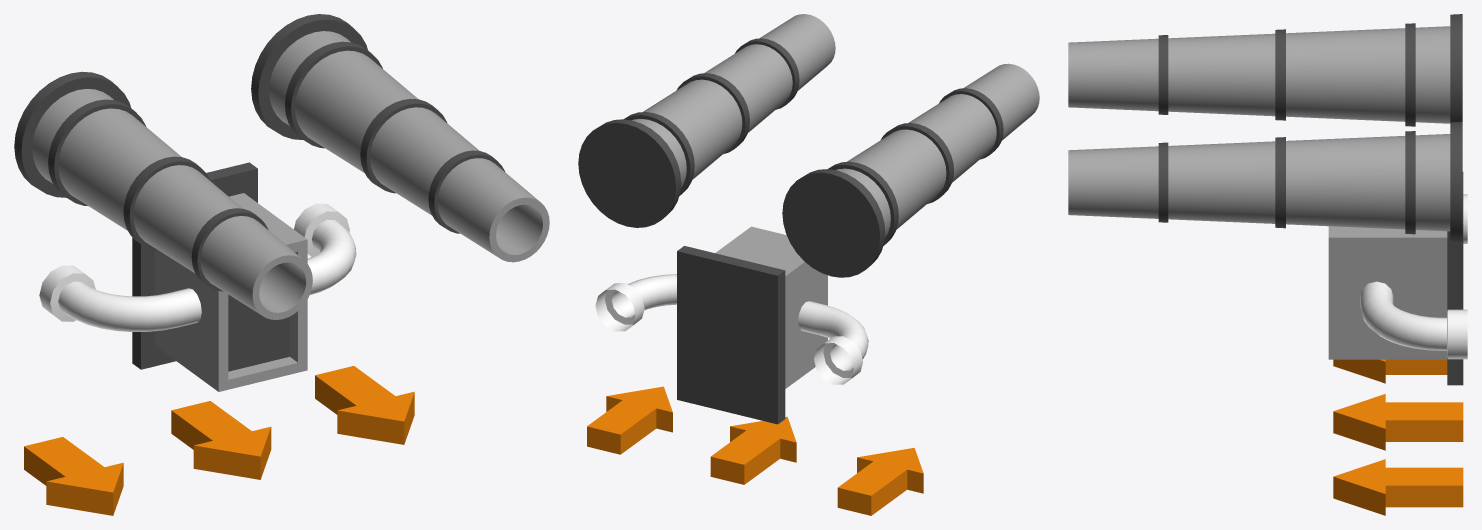
Rendered from geothermal.obj.
The picture shows the model from 3 angles, left to right: view 1: azimuth 30°, elevation 25°; view 2: azimuth 150°, elevation 25°; view 3: azimuth 270°, elevation 25°; orthographic projection. The views are drawn at different scales.
Parts seen in each view (by area): view 1: geothermal; view 2: geothermal; view 3: geothermal.
Part boxes in pixels (box(x1,y1,x2,y2)): geothermal: box(14, 14, 549, 515); geothermal: box(578, 14, 1039, 515); geothermal: box(1068, 14, 1467, 515).
Bounding box in the file's own units: 8.03 × 8.02 × 8.09.
